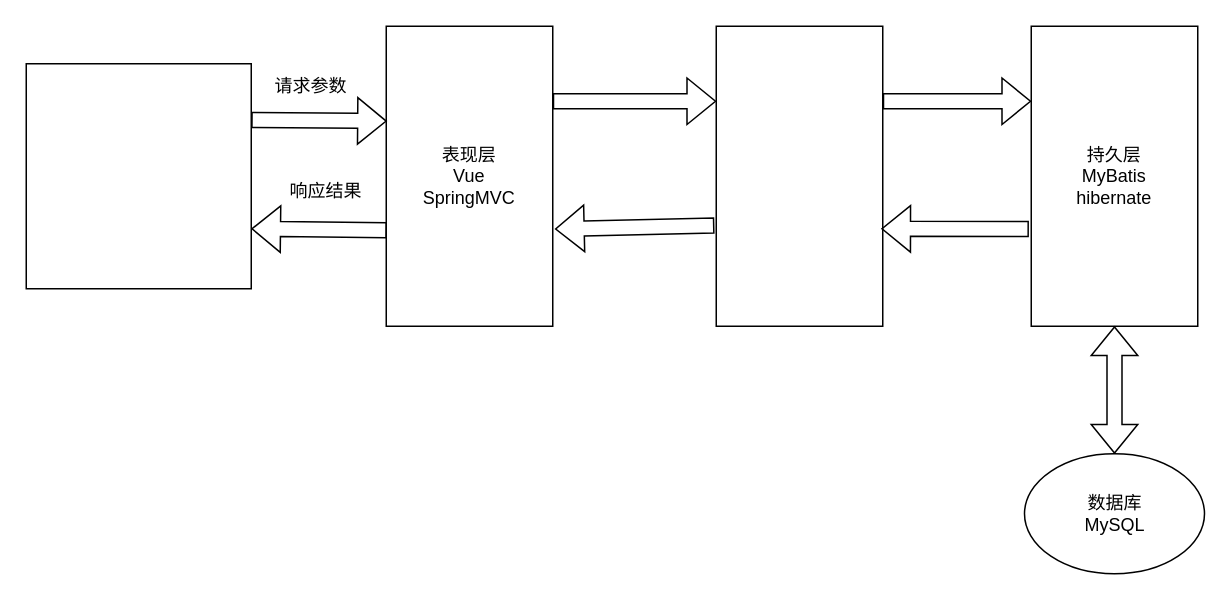
Some shapes in this 1232 by 600 pixel diagram are drawn without their labels. The shapes that lost their labels are listed below. From the top down, each one's centre as x and y in pixels, then its label:
At [138,175]: "浏览器".
At [799,175]: "业务层 SpringBoot".
